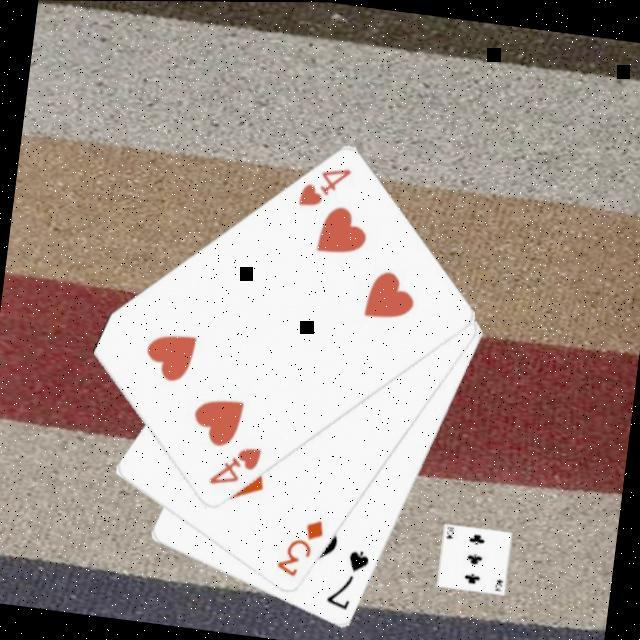3D: (271, 511, 329, 585)
4H: (294, 160, 356, 216), (204, 439, 266, 494)
7S: (323, 543, 375, 616)
